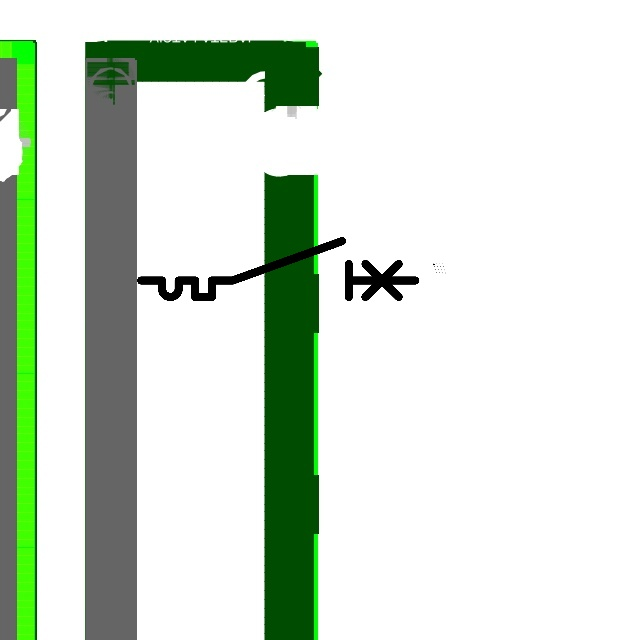interruptor_termomagnetico: (134, 234, 422, 304)
